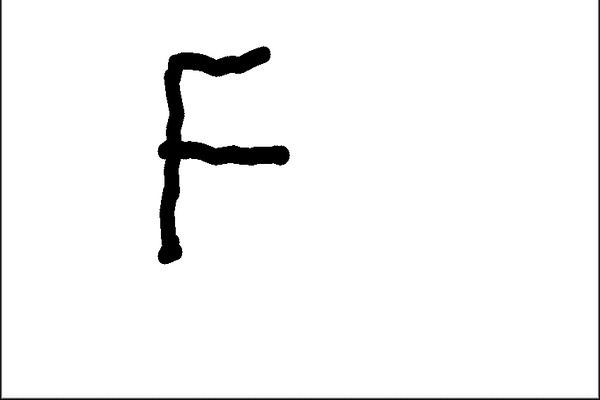F: (151, 43, 294, 267)
